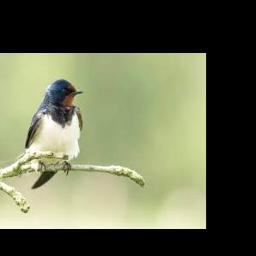Swallow: (26, 79, 84, 189)
